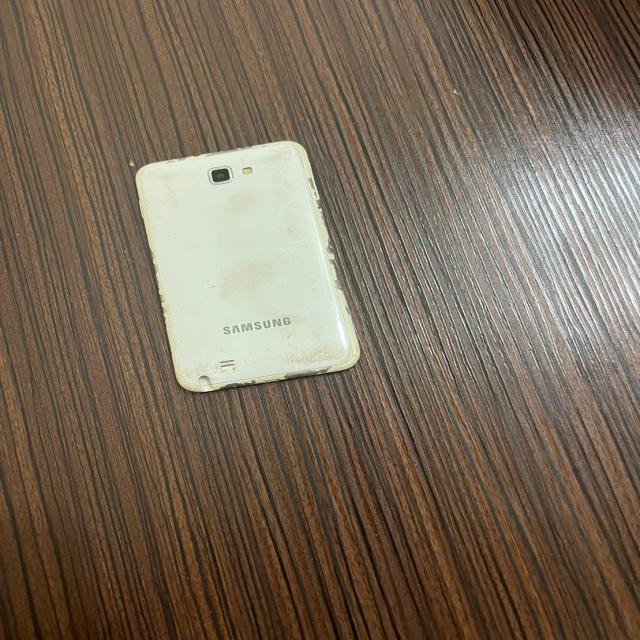Smartphone: (136, 142, 367, 392)
